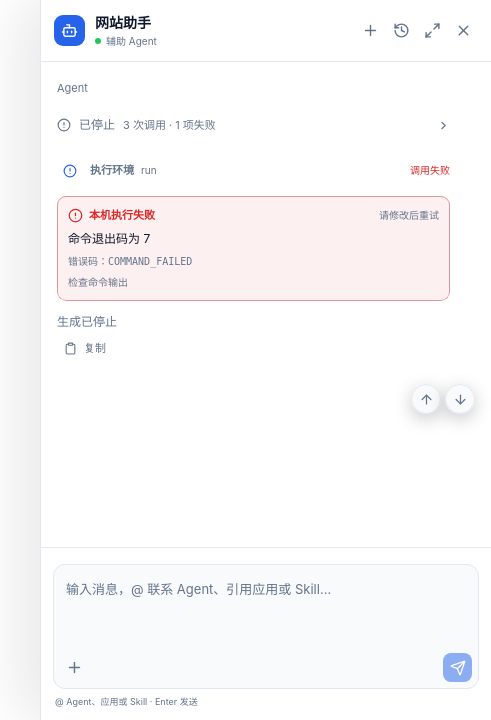
Scenario: AgentSidebar › shows cancellation and refusal as neutral states while keeping real failures visible
Expected: the text "已停止" is shown, [79,116,115,134]
Expected: the message that starts with "本机执行" shows "命令退出码为 7", [68,231,150,246]
Click the button with aria-label "执行过程": (97, 124) [57,103,450,147]
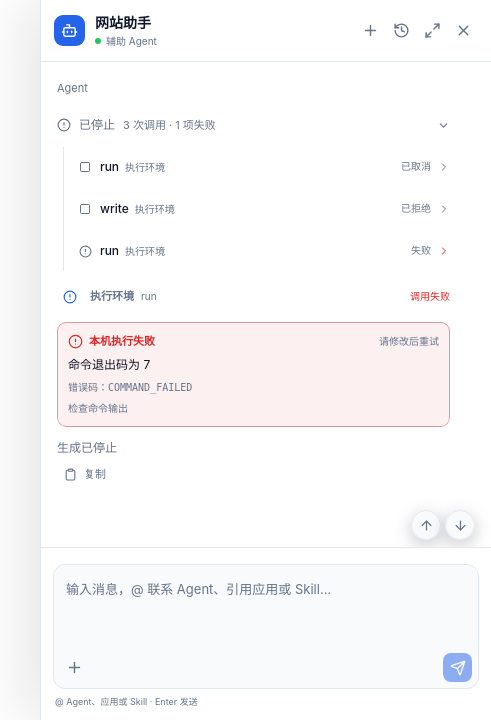
Now the text "已拒绝" is shown, box [401,201,431,217]
Now the number of list items with class "darl-agent-execution-item--cancelled" is 2, box [79,159,450,174]; [79,201,450,216]
